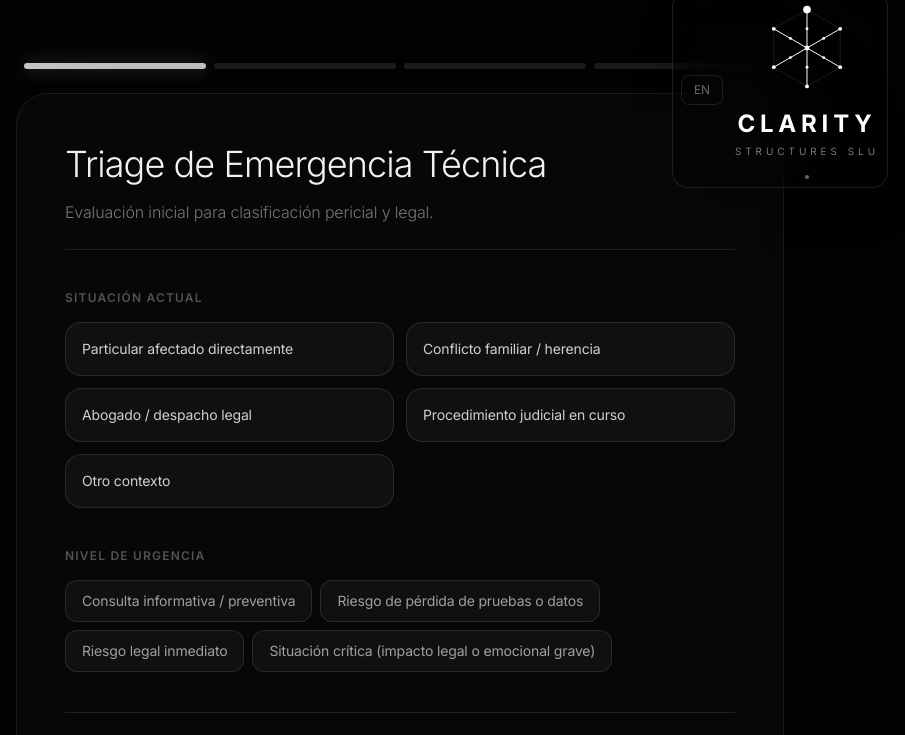
Test: Wizard › should navigate back from COGNITIVE to TRIAGE
The image size is (905, 735).
Step 1. Click the radio button "Particular afectado directamente" → [230, 349], box [65, 322, 394, 376]
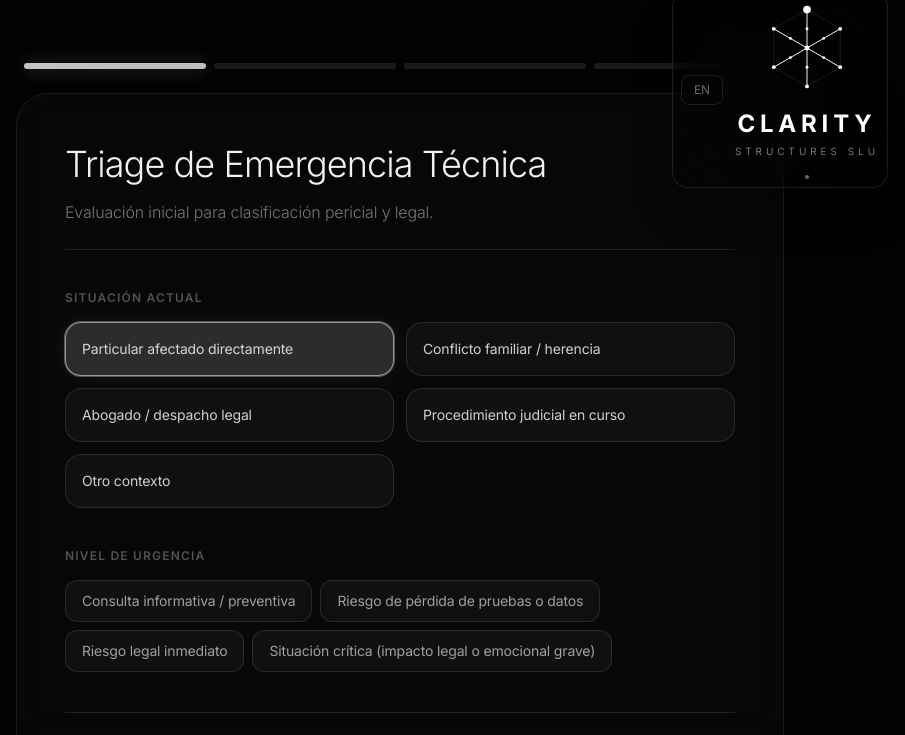
Step 2. Click the radio button "Consulta informativa / preventiva" → [189, 601], box [65, 580, 312, 622]
(page scrolled)
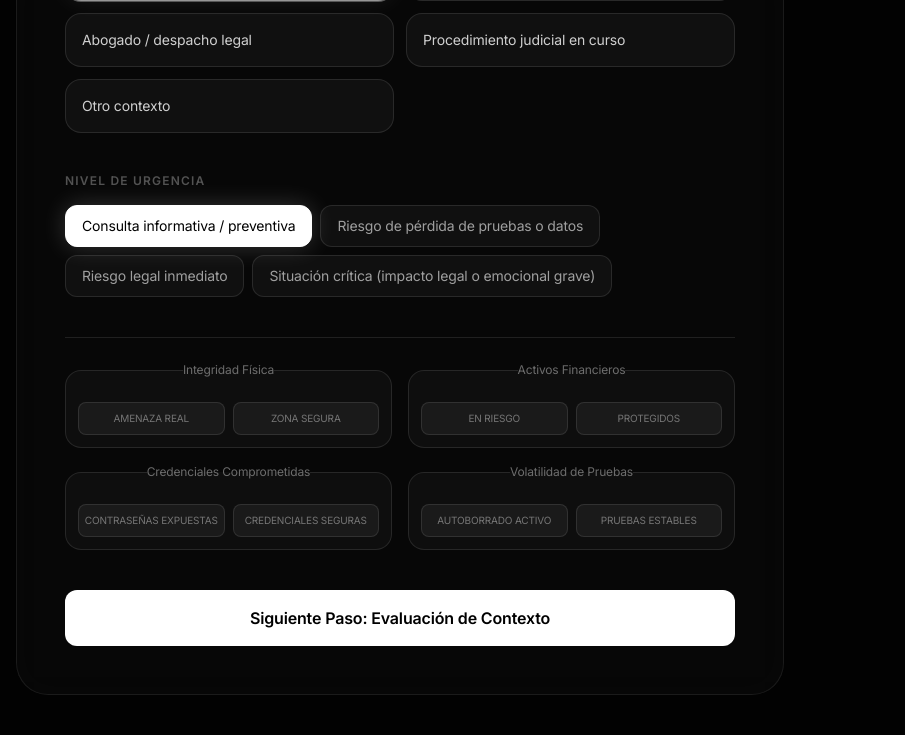
Step 3. Click the button "Siguiente Paso: Evaluación de Contexto" → [400, 618], box [65, 590, 735, 646]
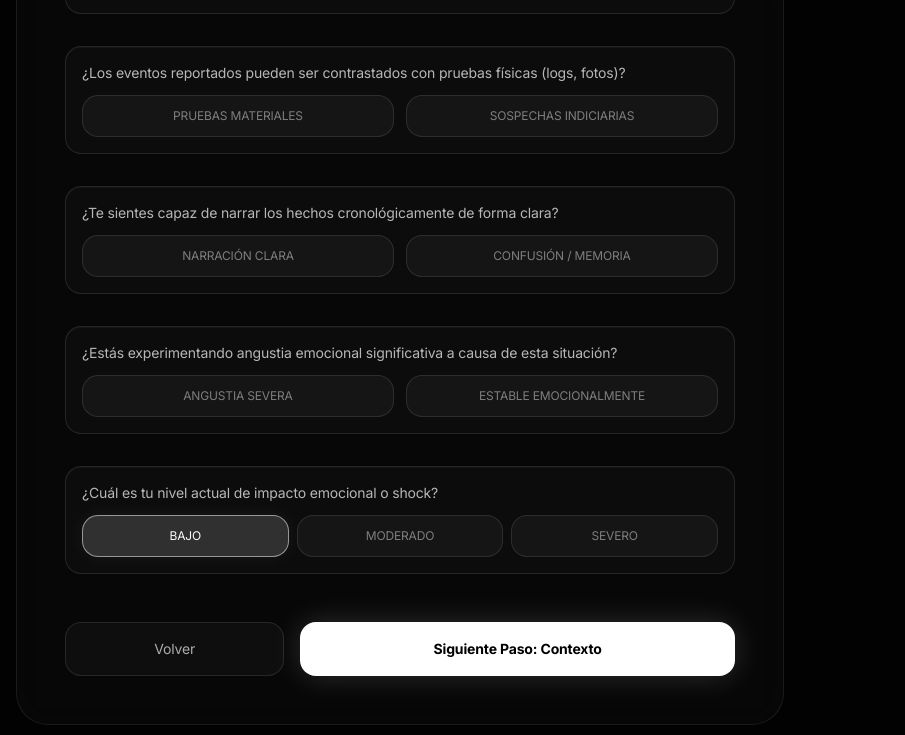
Step 4. Click the button "Volver" → [175, 649], box [65, 622, 284, 676]
(page scrolled)
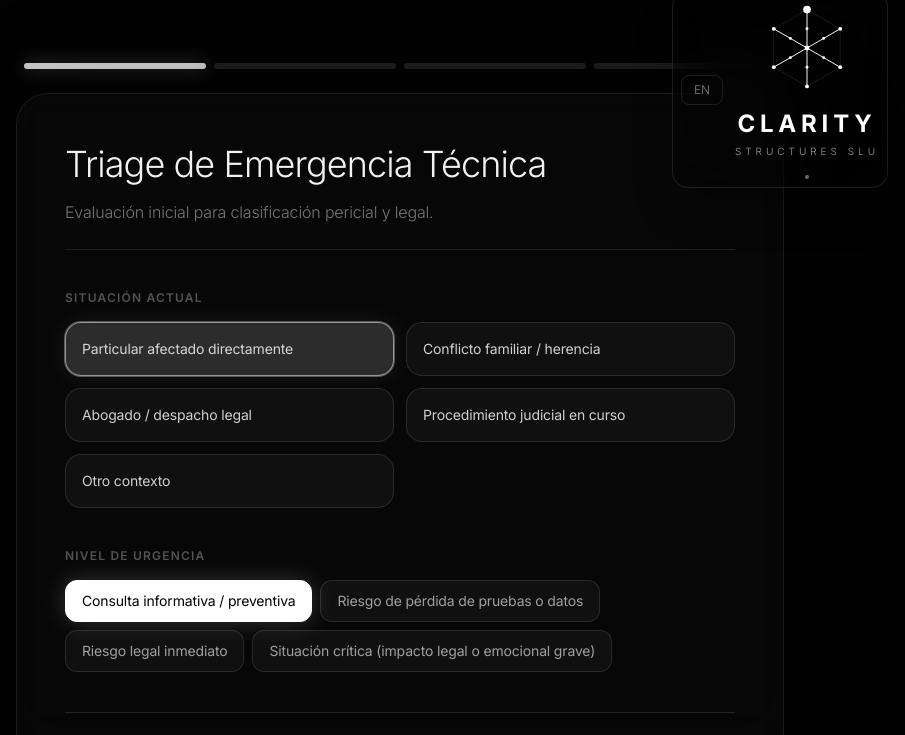
expect the heading "Triage de Emergencia Técnica" is shown: met, box [65, 142, 546, 186]
